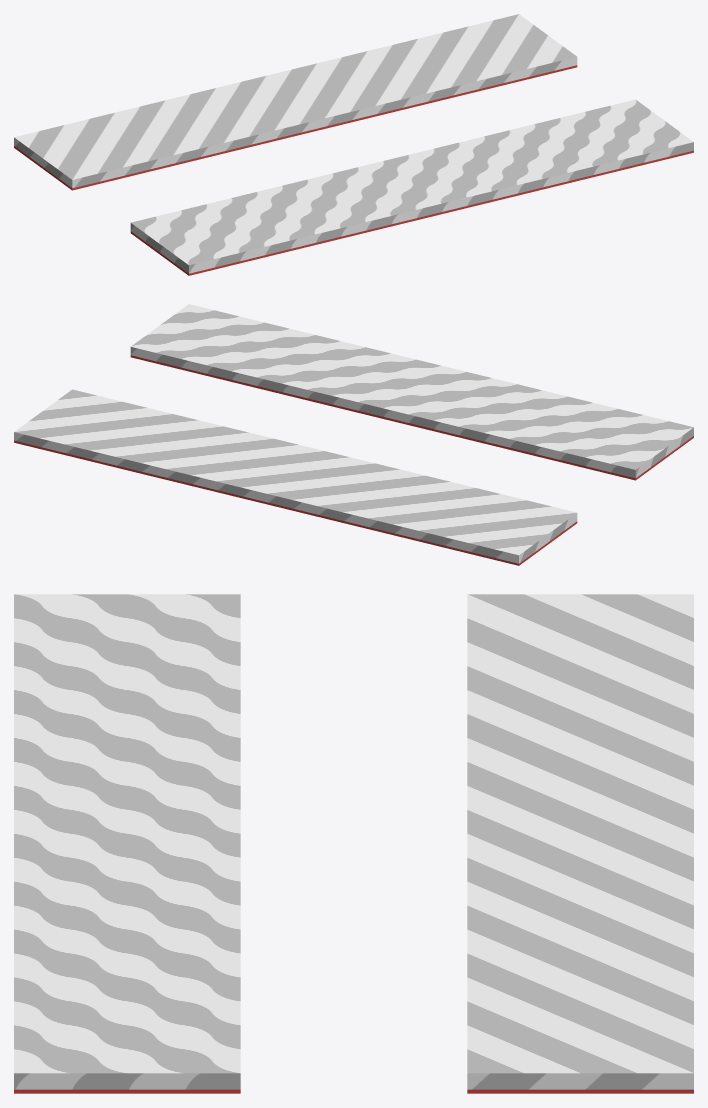
Rendered from floor_blue_stripes.obj.
The picture shows the model from 3 angles, top to bottom: view 1: azimuth 30°, elevation 25°; view 2: azimuth 150°, elevation 25°; view 3: azimuth 270°, elevation 25°; orthographic projection. The views are drawn at different scales.
Visible parts, largest first — view 1: mergedBlocks; view 2: mergedBlocks; view 3: mergedBlocks.
Boxes of the visible parts, <box> form: mergedBlocks: <box>14,14,693,275</box>; mergedBlocks: <box>14,304,693,565</box>; mergedBlocks: <box>14,594,693,1093</box>.
Bounding box in the file's own units: 5 × 0.1 × 3.
11 materials, 10 textured.
